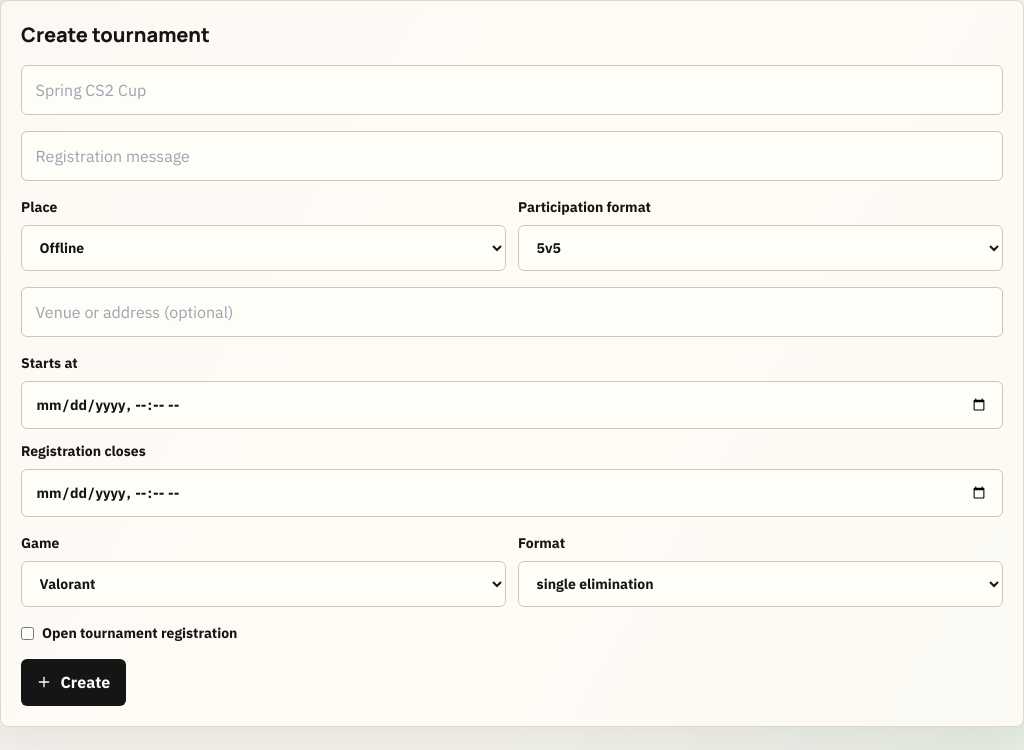
Test: TournamentCreateForm › locks TFT to the staged lobby format and exposes final mode
Select "Teamfight Tactics" in the dropdown labelled "Game" at x=264, y=584, box [21,561,506,607]
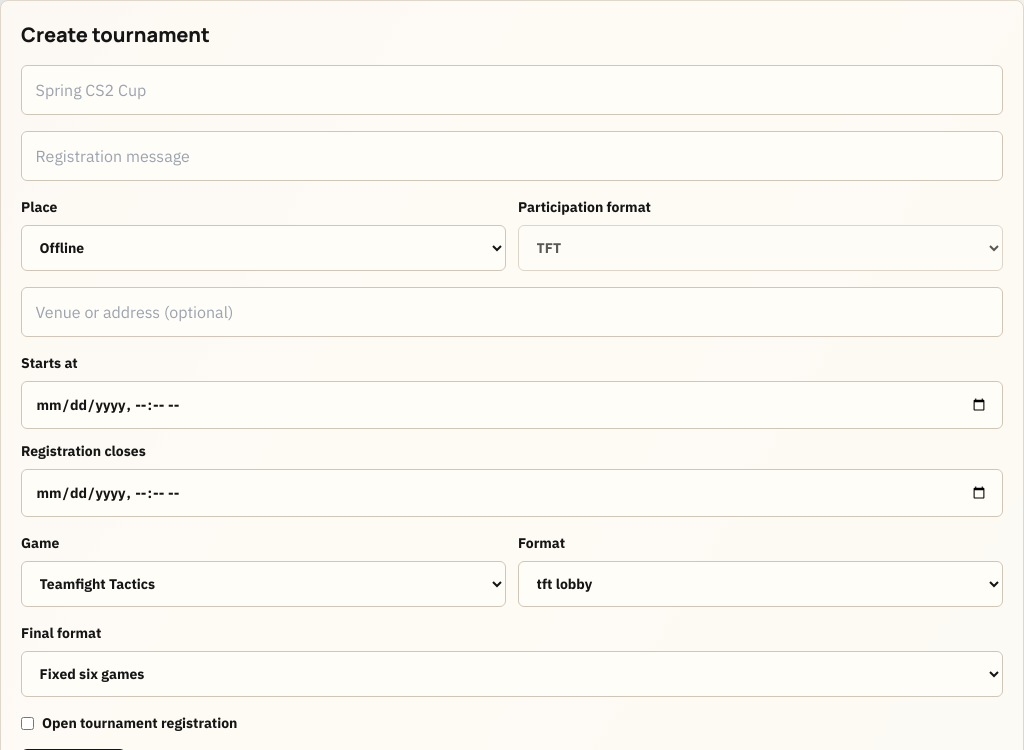
Result: the dropdown labelled "Format" shows "tft lobby" at [518,561,1003,607]
Result: the dropdown labelled "Final format" shows "Fixed six games" at [21,651,1003,697]
Result: the dropdown labelled "Participation format" shows "TFT" at [518,225,1003,271]
